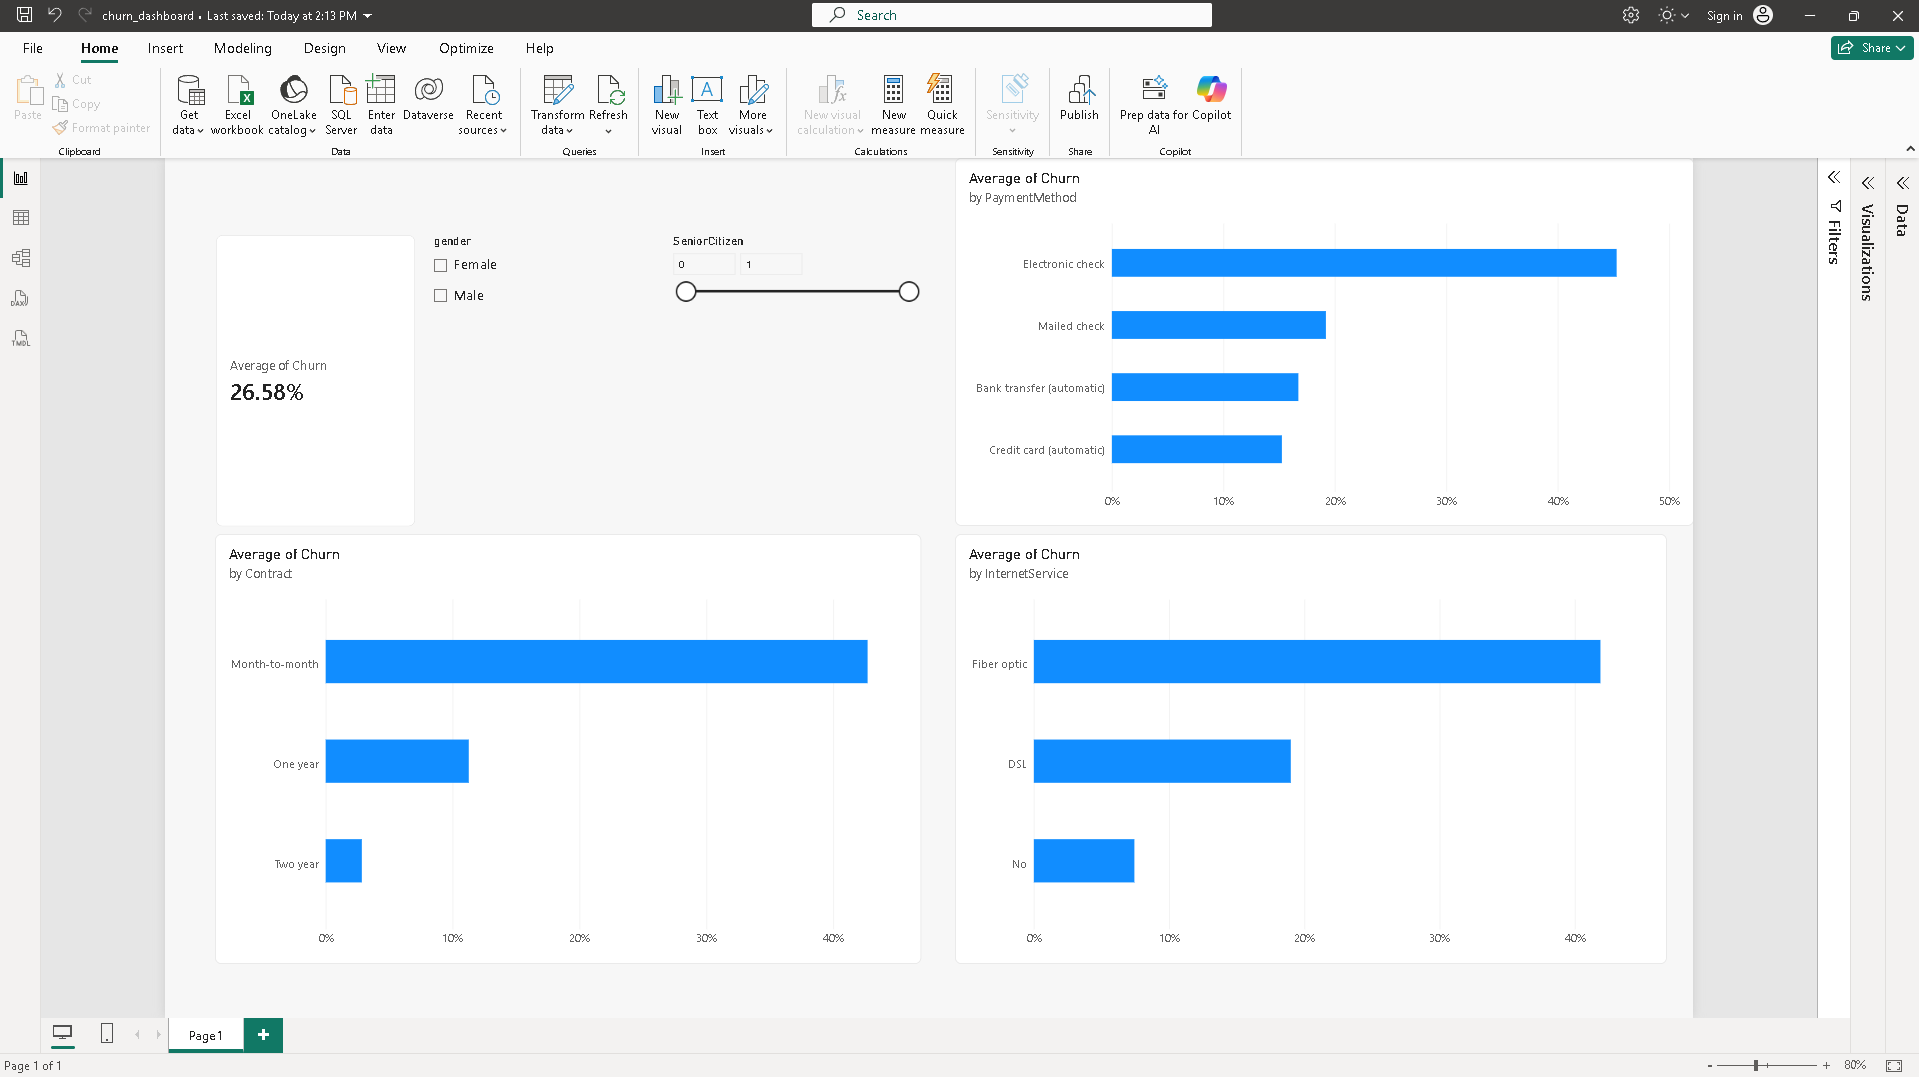

This screenshot's page, from the dashboard's own definition file:
{"tool":"powerbi","page":{"name":"Page 1","canvas":[1920,1080],"ordinal":0},"visuals":[{"type":"cardVisual","fields":{"Data":["Avg(cleaned_churn.Churn)"]},"box":[64.2,96.3,250.9,366.2],"z":0},{"type":"clusteredBarChart","fields":{"Category":["cleaned_churn.Contract"],"Y":["Avg(cleaned_churn.Churn)"]},"box":[62.7,472.7,887.1,539.8],"z":1},{"type":"clusteredBarChart","fields":{"Category":["cleaned_churn.PaymentMethod"],"Y":["Avg(cleaned_churn.Churn)"]},"box":[992.1,0,927.9,462.5],"z":2},{"type":"clusteredBarChart","fields":{"Category":["cleaned_churn.InternetService"],"Y":["Avg(cleaned_churn.Churn)"]},"box":[992.1,472.7,894.3,539.8],"z":3},{"type":"slicer","fields":{"Values":["cleaned_churn.gender"]},"box":[329.7,96.3,300.5,366.2],"z":4},{"type":"slicer","fields":{"Values":["cleaned_churn.SeniorCitizen"]},"box":[630.3,96.3,319.5,366.2],"z":5}]}

Visuals, with their boxes on the page's 1920x1080 design canvas (x1, y1, x2, y2). These are canvas units, not pixel positions in the 1919x1077 screenshot, which may show the page scaled, cropped or inside an application window:
cardVisual - Avg(cleaned_churn.Churn): locate(64, 96, 315, 462)
clusteredBarChart - cleaned_churn.Contract x Avg(cleaned_churn.Churn): locate(63, 473, 950, 1012)
clusteredBarChart - cleaned_churn.PaymentMethod x Avg(cleaned_churn.Churn): locate(992, 0, 1920, 462)
clusteredBarChart - cleaned_churn.InternetService x Avg(cleaned_churn.Churn): locate(992, 473, 1886, 1012)
slicer - cleaned_churn.gender: locate(330, 96, 630, 462)
slicer - cleaned_churn.SeniorCitizen: locate(630, 96, 950, 462)
